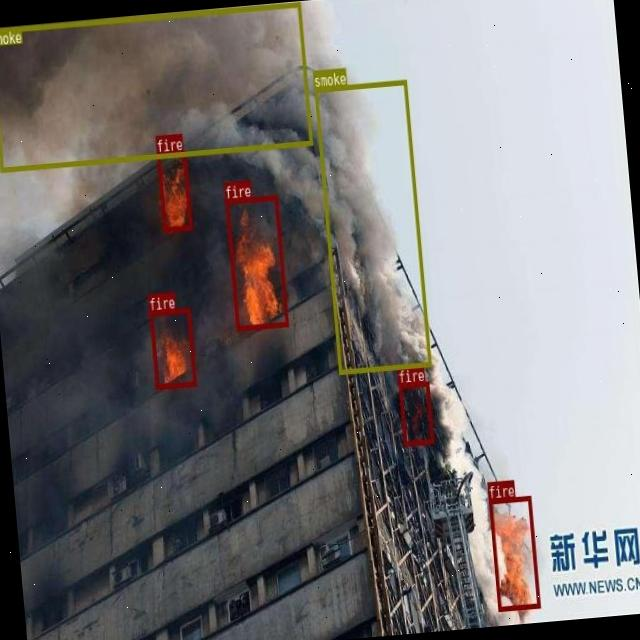fire: (225, 194, 288, 330), (488, 496, 539, 610), (148, 306, 196, 388), (156, 150, 192, 232), (398, 381, 433, 444)
smoke: (0, 1, 311, 170), (314, 80, 431, 372)
